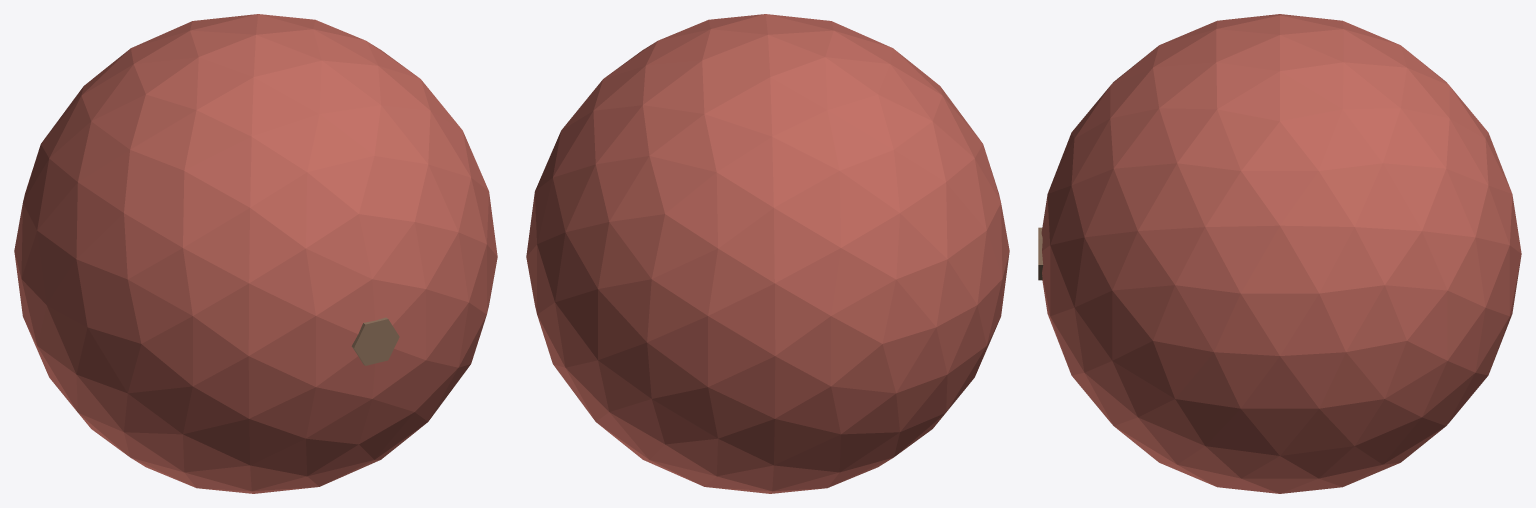
File: tomato.glb
The picture shows the model from 3 angles, left to right: view 1: azimuth 30°, elevation 25°; view 2: azimuth 150°, elevation 25°; view 3: azimuth 270°, elevation 25°; orthographic projection.
Parts seen in each view (by area): view 1: 00_tomate, 01_stem; view 2: 00_tomate; view 3: 00_tomate.
Part boxes in pixels (x1,y1,x2,y2): 00_tomate: [14, 14, 497, 493]; 01_stem: [351, 317, 399, 365]; 00_tomate: [526, 14, 1009, 493]; 00_tomate: [1041, 14, 1521, 493].
Bounding box in the file's own units: 0.22 × 0.22 × 0.22.
